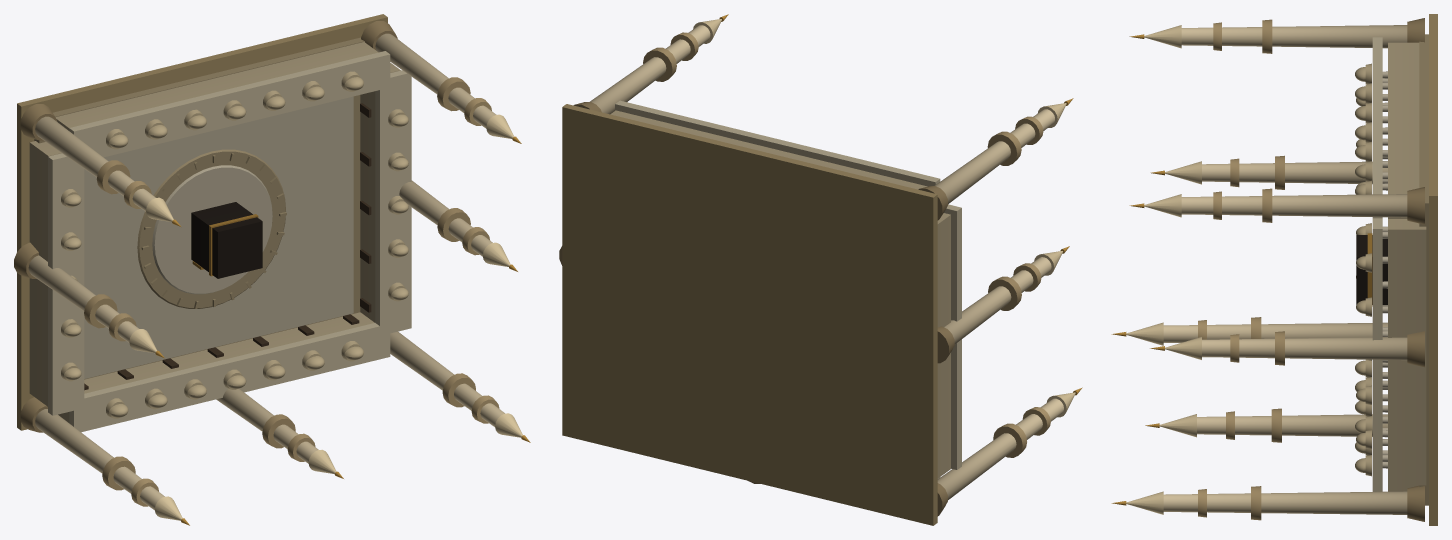
The model's file is mecca-haram.glb.
3 views of the same model, side by side, from view 1: azimuth 30°, elevation 25°; view 2: azimuth 150°, elevation 25°; view 3: azimuth 270°, elevation 25° (orthographic).
Visible parts, largest first — view 1: part-court, part-arcade, part-wall, part-minaret, part-dome, part-courtShade, part-ground, part-minaretShade, part-kaaba, part-shadow, part-kiswahBand; view 2: part-ground, part-minaret, part-arcade, part-wall, part-minaretShade, part-dome; view 3: part-minaret, part-wall, part-dome, part-minaretShade, part-ground, part-arcade, part-courtShade, part-column, part-kaaba, part-kiswahBand.
Boxes of the visible parts, x1,y1,x2,y2 form: part-court: (84,96,353,378); part-arcade: (48,51,411,432); part-wall: (29,42,400,422); part-minaret: (28,33,504,510); part-dome: (61,71,522,520); part-courtShade: (34,37,364,379); part-ground: (17,14,387,430); part-minaretShade: (14,21,499,506); part-kaaba: (191,202,262,278); part-shadow: (84,103,371,390); part-kiswahBand: (155,136,530,525); part-ground: (562,104,937,525); part-minaret: (590,25,1063,499); part-arcade: (615,100,961,478); part-wall: (610,110,950,478); part-minaretShade: (559,32,1050,516); part-dome: (693,19,1075,417); part-minaret: (1163,25,1407,514); part-wall: (1388,42,1426,491); part-dome: (1126,25,1371,514); part-minaretShade: (1198,18,1424,521); part-ground: (1429,14,1437,525); part-arcade: (1372,37,1382,491); part-courtShade: (1419,34,1428,505); part-column: (1382,71,1387,468); part-kaaba: (1356,235,1387,304); part-kiswahBand: (1111,34,1372,505).
Bounding box in the file's own units: 1.76 × 1.46 × 1.27.
